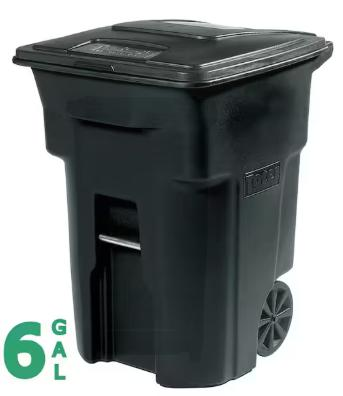garbage container: (8, 15, 338, 391)
